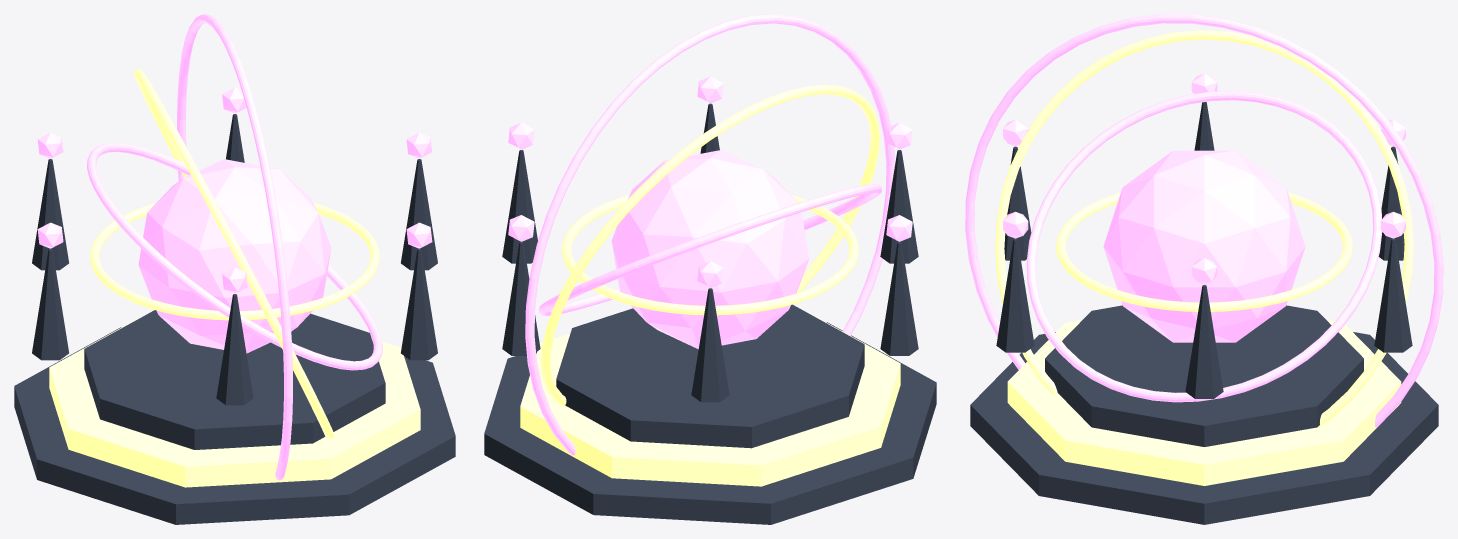
File: gpu-blender-v15.glb
The picture shows the model from 3 angles, left to right: view 1: azimuth 30°, elevation 25°; view 2: azimuth 150°, elevation 25°; view 3: azimuth 270°, elevation 25°; orthographic projection. The views are drawn at different scales.
Visible parts, largest first — view 1: Cylinder.002, Cylinder, SovereignCore_agent-capsule-jail, Cylinder.001, Torus.003, Torus.001, Torus.002, Torus, Cone.004, Cone.003, Cone.005, Cone.002 (+7 smaller); view 2: Cylinder.002, SovereignCore_agent-capsule-jail, Cylinder, Cylinder.001, Torus.003, Torus.002, Torus.001, Torus, Cone.002, Cone.003, Cone.001, Cone.004 (+7 smaller); view 3: SovereignCore_agent-capsule-jail, Cylinder.002, Cylinder, Cylinder.001, Torus.003, Torus.001, Torus.002, Torus, Cone.001, Cone.005, Cone, Cone.004 (+3 smaller).
Boxes of the visible parts, left/top/right/bottom form: Cylinder.002: left=84, top=310, right=385, bottom=449; Cylinder: left=14, top=327, right=455, bottom=524; SovereignCore_agent-capsule-jail: left=138, top=159, right=331, bottom=353; Cylinder.001: left=49, top=318, right=420, bottom=487; Torus.003: left=177, top=14, right=292, bottom=480; Torus.001: left=87, top=142, right=382, bottom=370; Torus.002: left=134, top=69, right=334, bottom=438; Torus: left=90, top=203, right=379, bottom=320; Cone.004: left=216, top=294, right=253, bottom=405; Cone.003: left=32, top=249, right=68, bottom=360; Cone.005: left=401, top=249, right=437, bottom=360; Cone.002: left=32, top=159, right=68, bottom=270; Cylinder.002: left=556, top=304, right=864, bottom=448; SovereignCore_agent-capsule-jail: left=611, top=150, right=809, bottom=349; Cylinder: left=484, top=322, right=936, bottom=524; Cylinder.001: left=520, top=313, right=900, bottom=486; Torus.003: left=525, top=14, right=895, bottom=455; Torus.002: left=541, top=84, right=879, bottom=406; Torus.001: left=539, top=183, right=881, bottom=315; Torus: left=562, top=195, right=858, bottom=315; Cone.002: left=691, top=288, right=729, bottom=402; Cone.003: left=880, top=242, right=918, bottom=355; Cone.001: left=502, top=242, right=540, bottom=355; Cone.004: left=880, top=150, right=918, bottom=263; SovereignCore_agent-capsule-jail: left=1103, top=150, right=1305, bottom=342; Cylinder.002: left=1045, top=305, right=1363, bottom=446; Cylinder: left=970, top=332, right=1438, bottom=524; Cylinder.001: left=1007, top=320, right=1401, bottom=485; Torus.003: left=965, top=14, right=1443, bottom=427; Torus.001: left=1026, top=91, right=1382, bottom=402; Torus.002: left=995, top=30, right=1413, bottom=426; Torus: left=1056, top=192, right=1352, bottom=311; Cone.001: left=1374, top=239, right=1412, bottom=352; Cone.005: left=996, top=239, right=1034, bottom=352; Cone: left=1185, top=285, right=1223, bottom=398; Cone.004: left=1004, top=146, right=1031, bottom=260.
Bounding box in the file's own units: 4.41 × 4.7 × 4.49.
